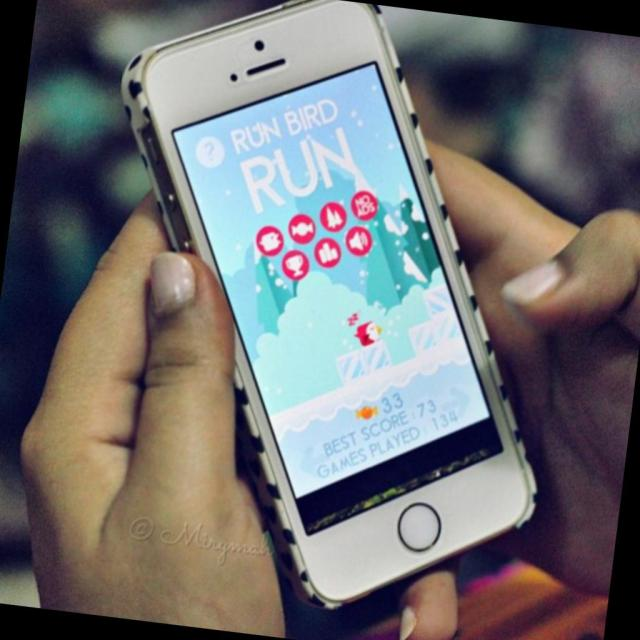handphone: (126, 0, 547, 597)
